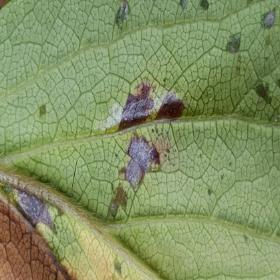Angular Leafspot: (0, 0, 279, 279)
